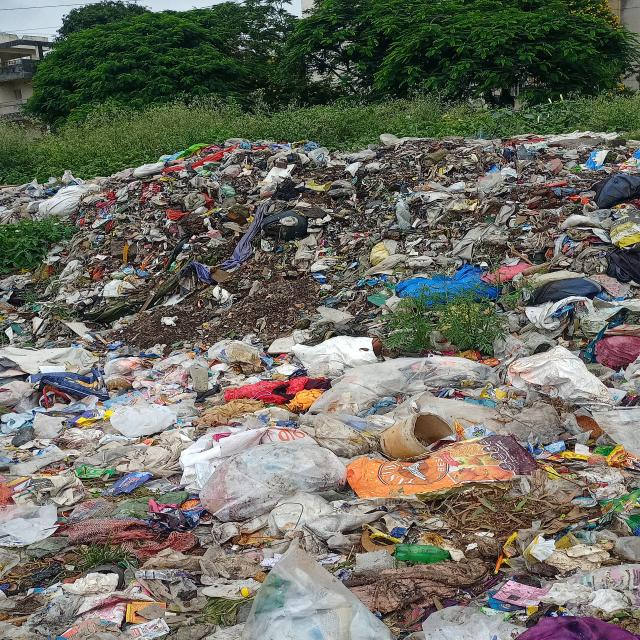garbage: (1, 149, 640, 640)
